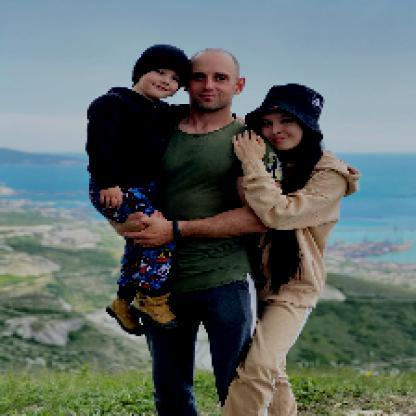child: (85, 43, 191, 337)
